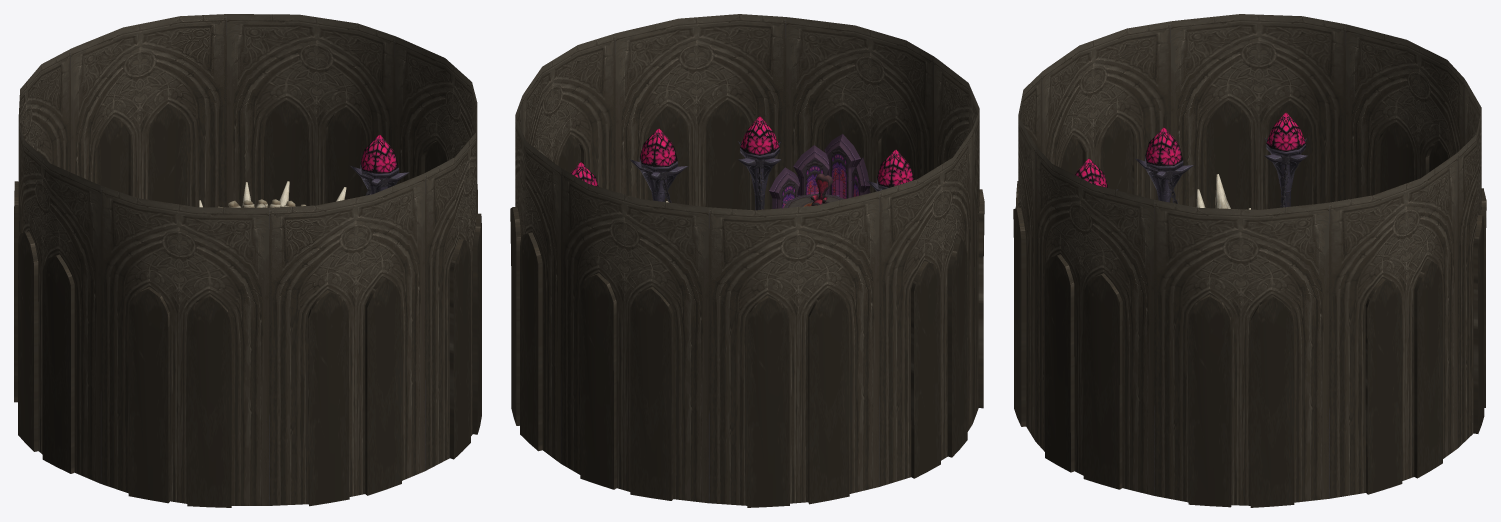
File: Scene_duoluocaoxue.fbx
3 views of the same model, side by side, from view 1: azimuth 30°, elevation 25°; view 2: azimuth 150°, elevation 25°; view 3: azimuth 270°, elevation 25° (orthographic).
Visible parts, largest first — view 1: Scene_dixiacheng_a1, Scene_duoluocaoxue_a1; view 2: Scene_dixiacheng_a1, Scene_duoluocaoxue_a1; view 3: Scene_dixiacheng_a1, Scene_duoluocaoxue_a1.
Boxes of the visible parts, left/top/right/bottom form: Scene_dixiacheng_a1: left=14, top=14, right=481, bottom=507; Scene_duoluocaoxue_a1: left=199, top=134, right=409, bottom=207; Scene_dixiacheng_a1: left=510, top=14, right=984, bottom=507; Scene_duoluocaoxue_a1: left=570, top=116, right=914, bottom=210; Scene_dixiacheng_a1: left=1013, top=14, right=1486, bottom=507; Scene_duoluocaoxue_a1: left=1075, top=112, right=1307, bottom=209.
Bounding box in the file's own units: 3228 × 2230 × 3228.
